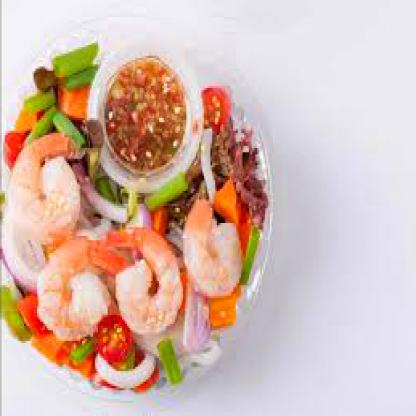Yum: (8, 29, 273, 406)
